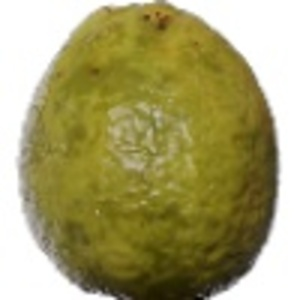goiaba: (7, 2, 284, 296)
